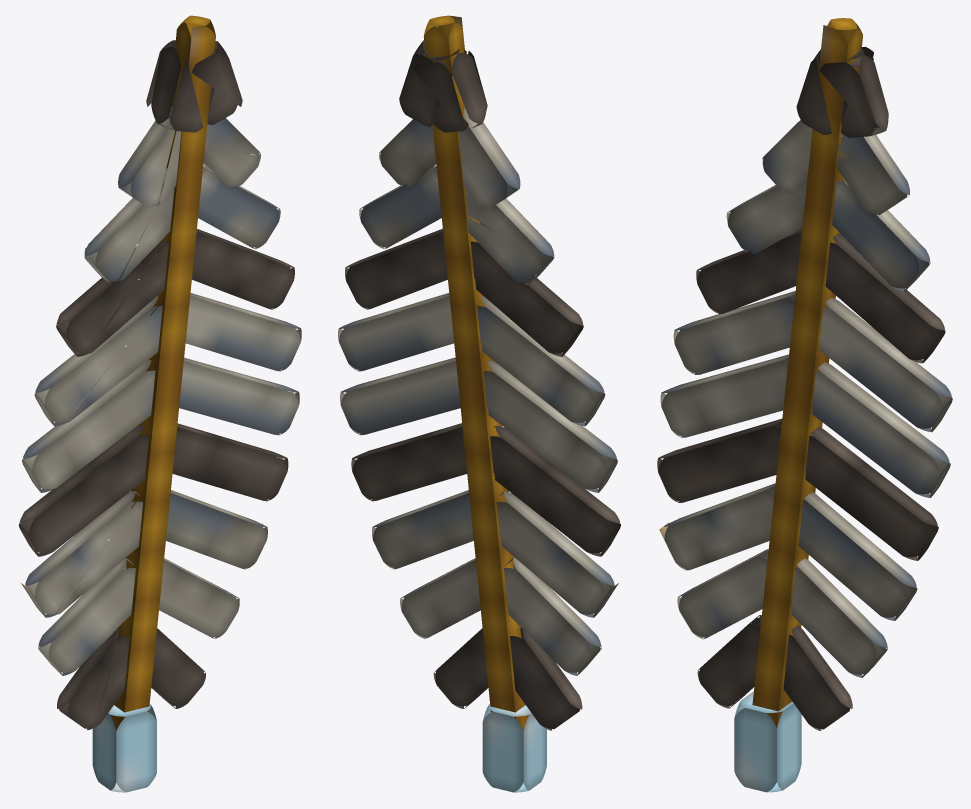
Rendered from harpy_feather.obj.
3 renders of one model, left to right at view 1: azimuth 30°, elevation 25°; view 2: azimuth 150°, elevation 25°; view 3: azimuth 330°, elevation 25°, orthographic. The views are drawn at different scales.
Visible parts, largest first — view 1: lit, fire; view 2: lit, fire; view 3: lit, fire.
Boxes of the visible parts, <box> form: lit: <box>19,15,301,730</box>; fire: <box>92,704,156,792</box>; lit: <box>338,15,620,730</box>; fire: <box>482,704,546,792</box>; lit: <box>657,18,952,730</box>; fire: <box>734,691,801,792</box>.
Size of the model in its own units: 0.388 by 0.9799 by 0.0631.
